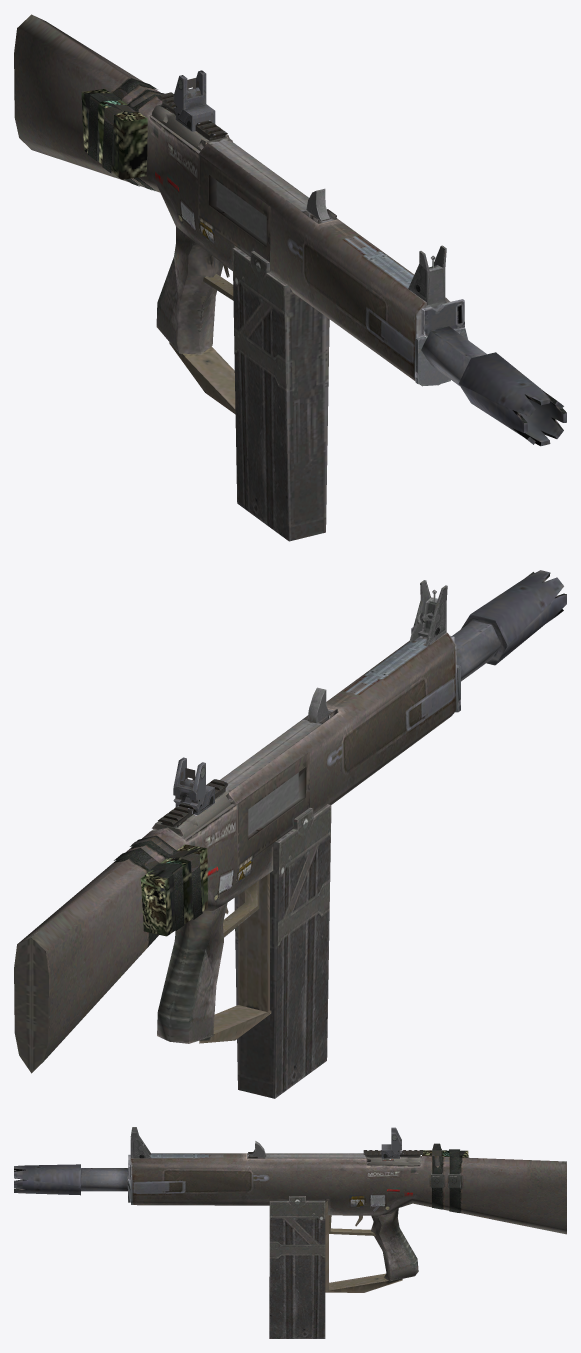
File: Shotgun_sdq_03_lod1_Body_LOD_(000758).glb
3 views of the same model, one above another, from view 1: azimuth 30°, elevation 25°; view 2: azimuth 150°, elevation 25°; view 3: azimuth 270°, elevation 25° (orthographic). The views are drawn at different scales.
Parts seen in each view (by area): view 1: sdq_03_lod1; view 2: sdq_03_lod1; view 3: sdq_03_lod1.
Part boxes in pixels (bbox=[...]): sdq_03_lod1: bbox=[14, 14, 566, 541]; sdq_03_lod1: bbox=[14, 570, 566, 1098]; sdq_03_lod1: bbox=[14, 1127, 566, 1338].
Bounding box in the file's own units: 0.1079 × 0.5159 × 1.27.
Materials: 1 (1 with a texture image).
